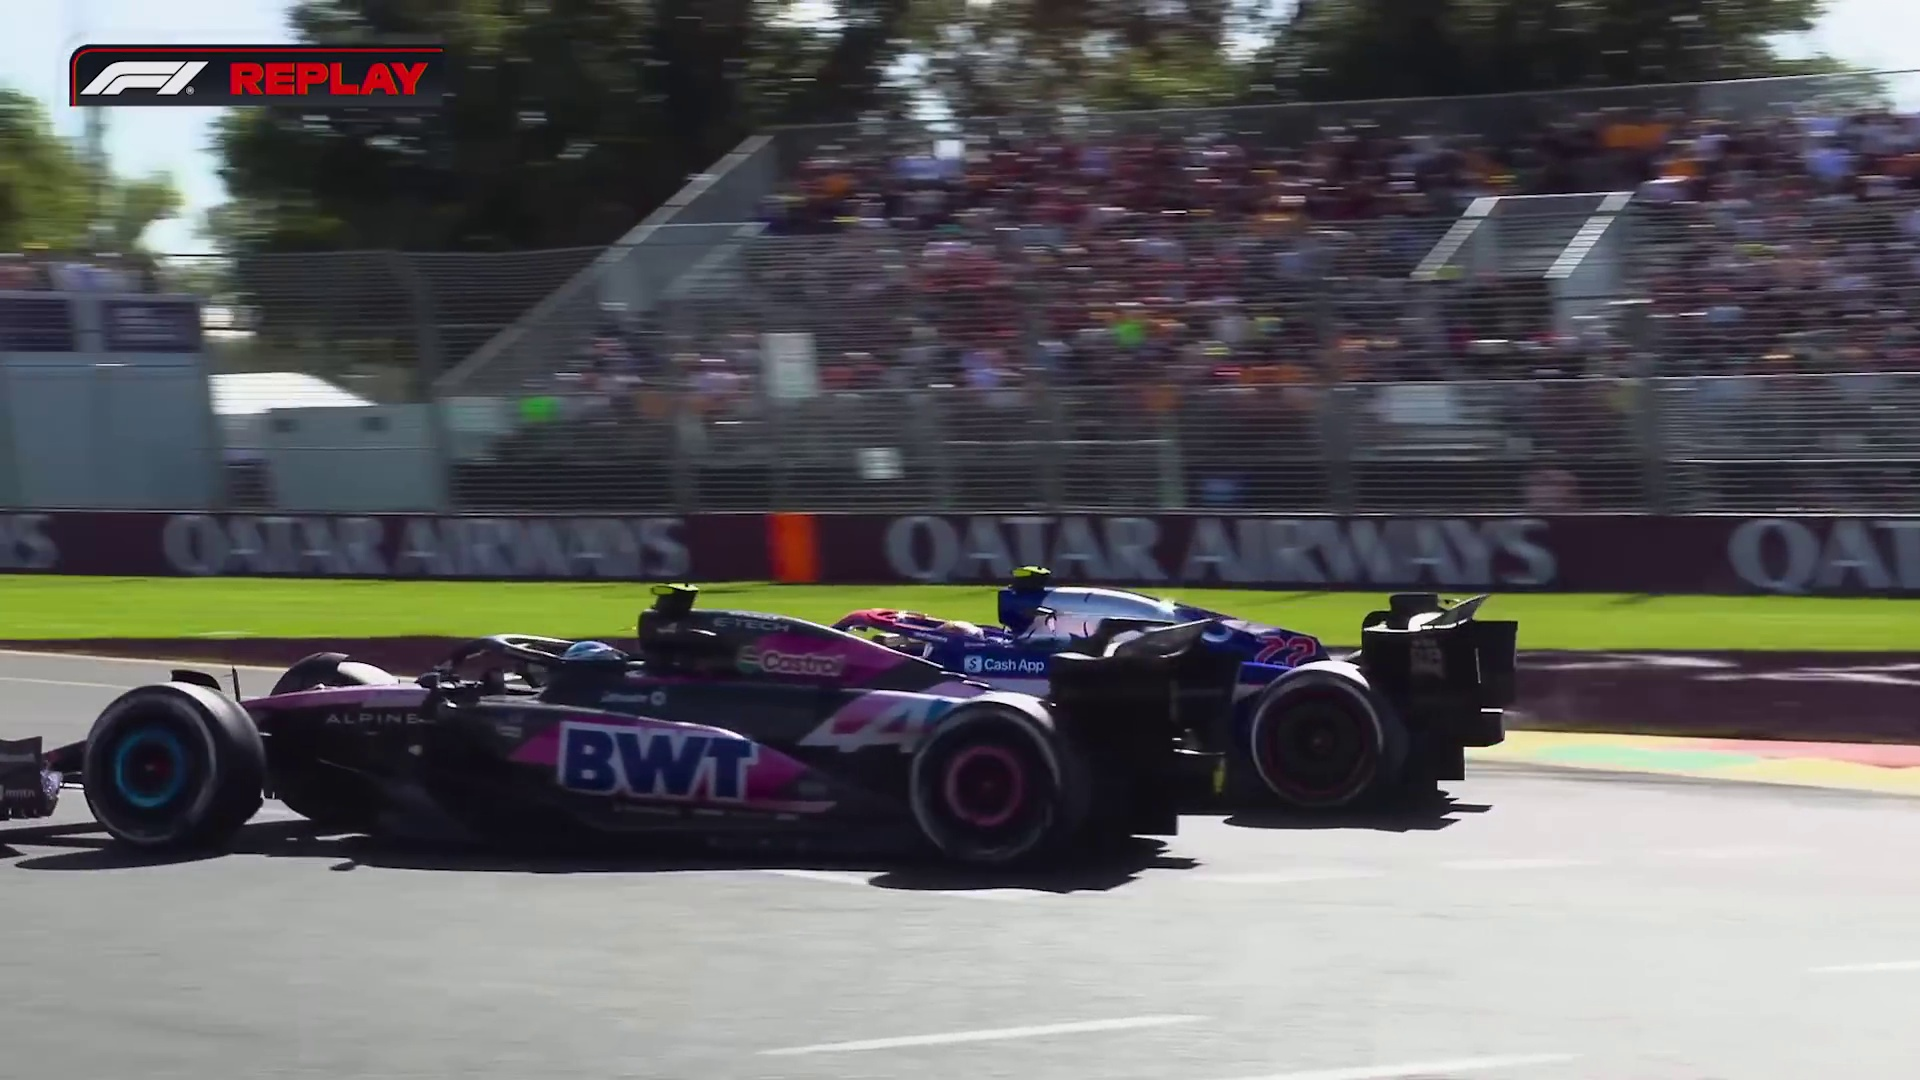Alpine: (12, 607, 1233, 882)
VisaRB: (925, 581, 1522, 795)
